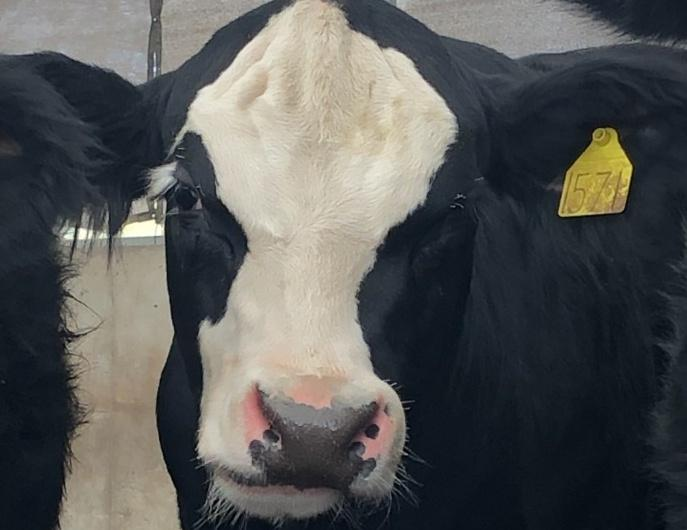muzzles: (198, 368, 413, 526)
